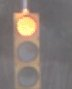Red: (9, 10, 47, 89)
